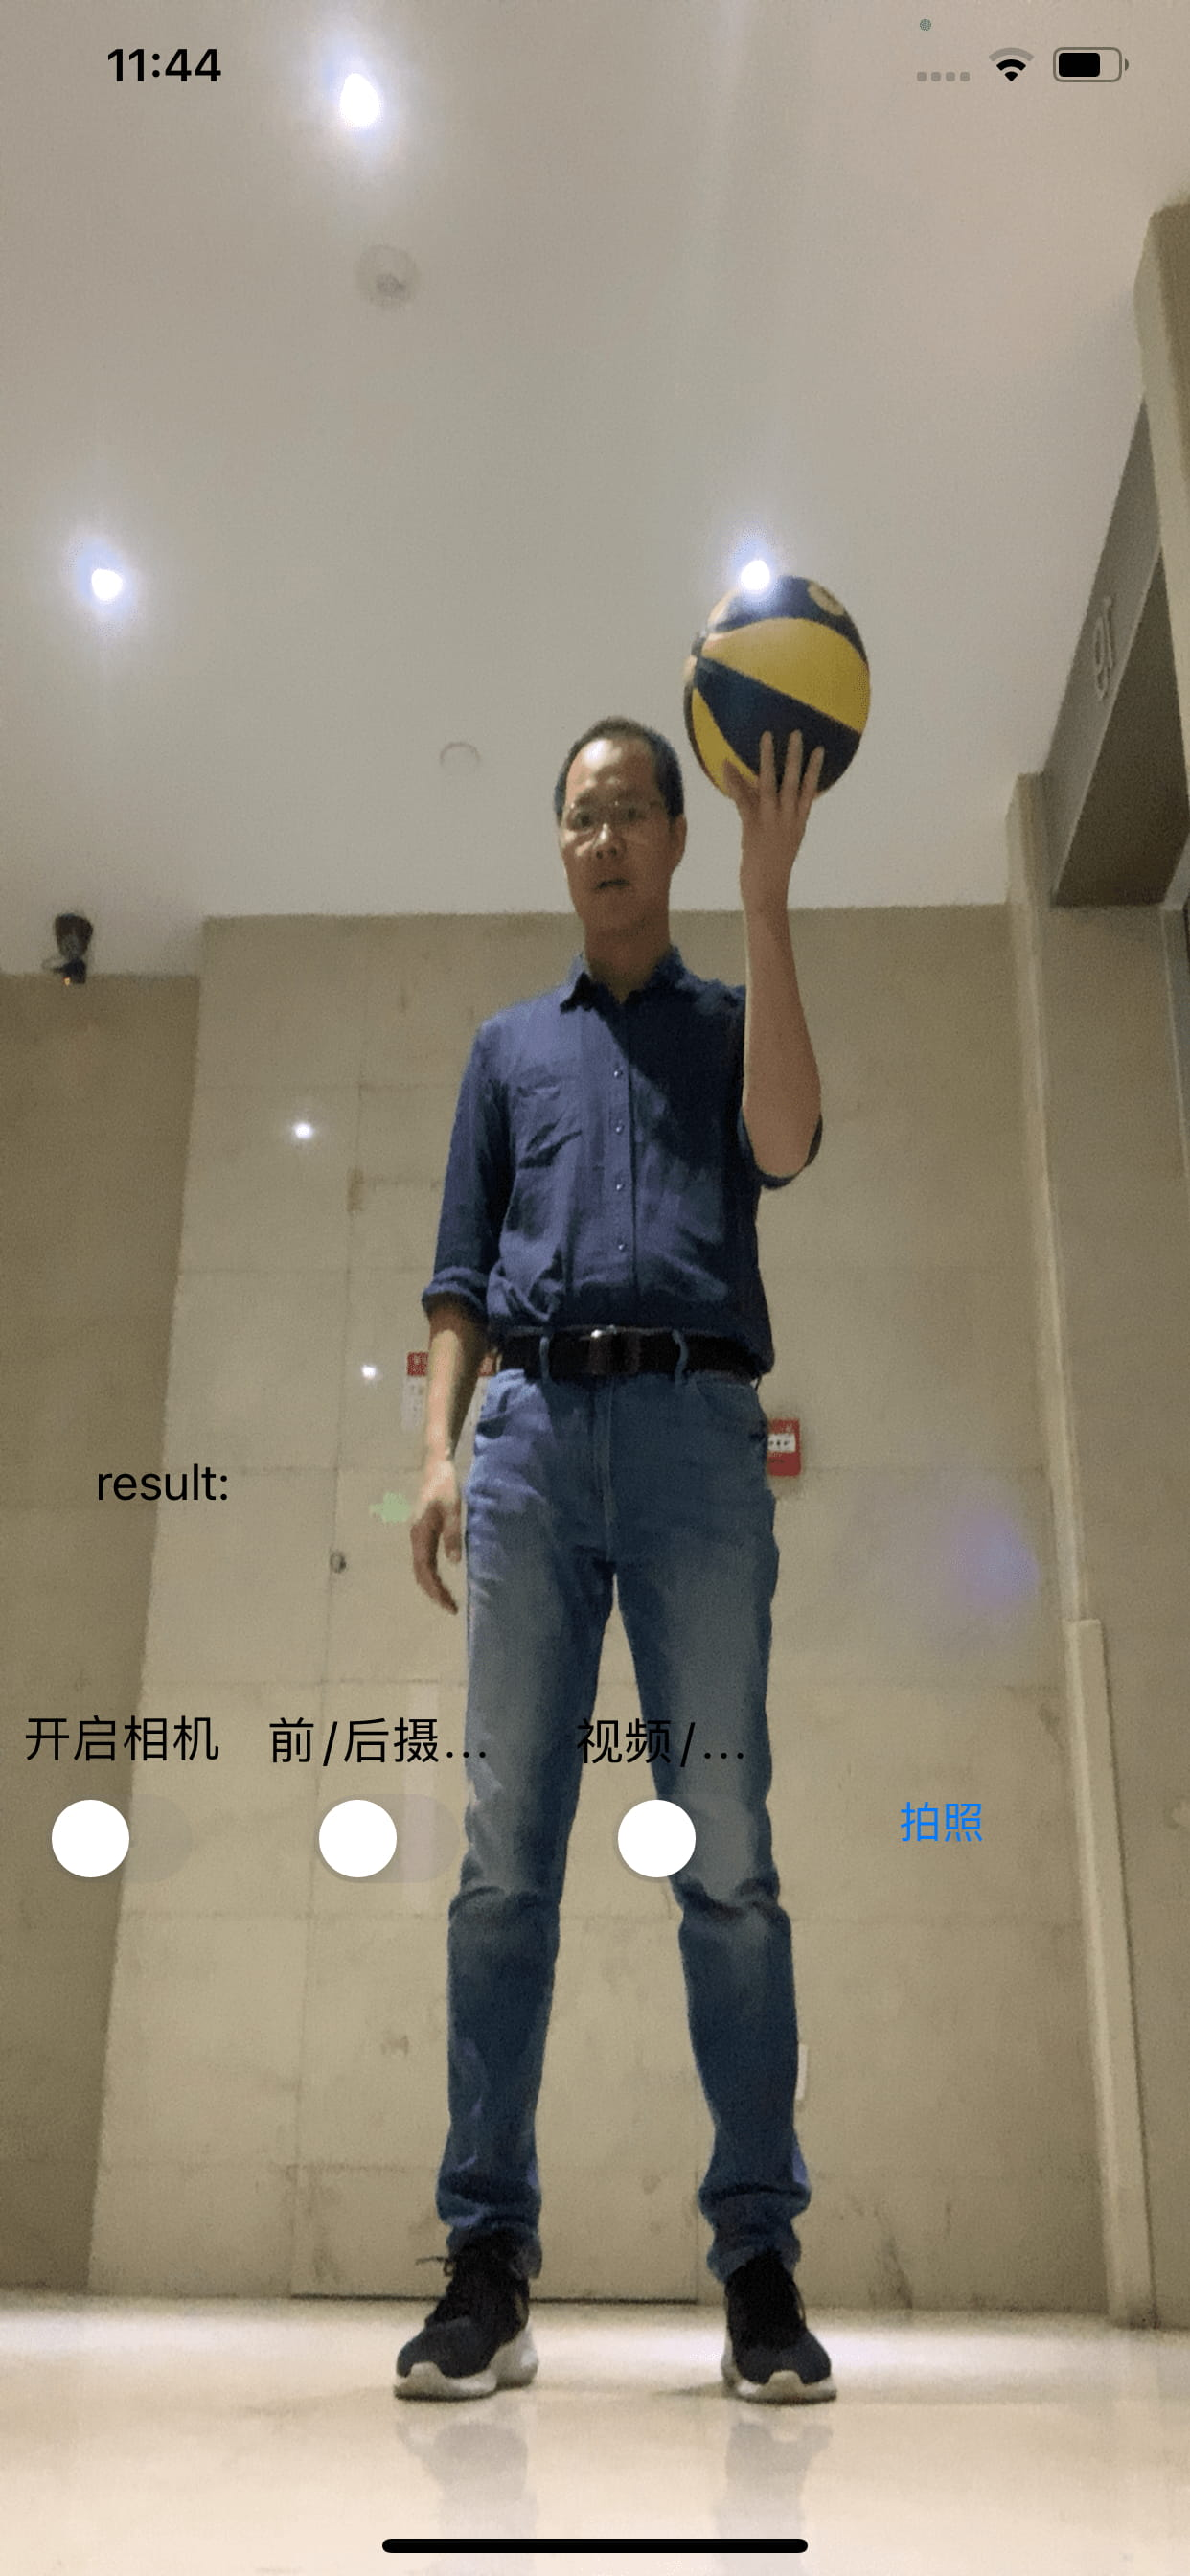ball: (689, 567, 874, 803)
